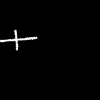single_crochet: (0, 30, 36, 49)
